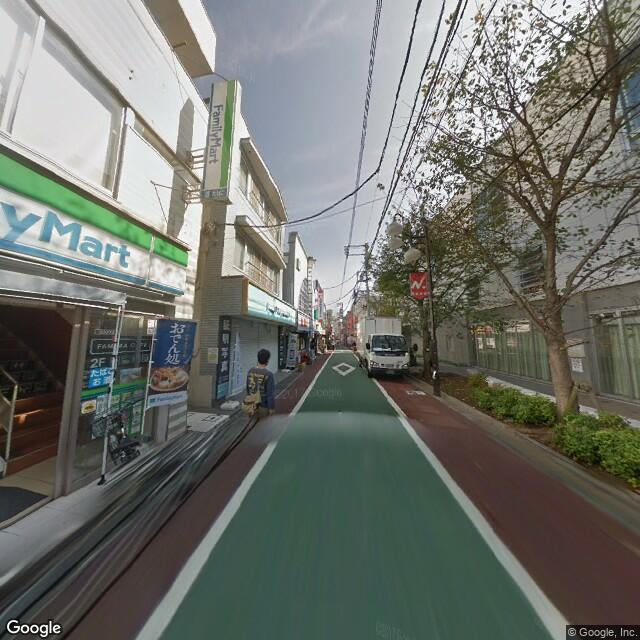family_mart: (3, 150, 190, 298), (201, 79, 239, 194)
